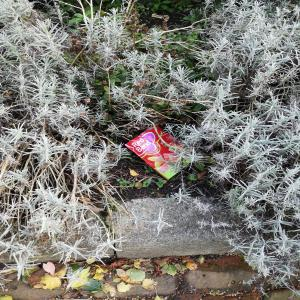Trash: (125, 125, 198, 184)
